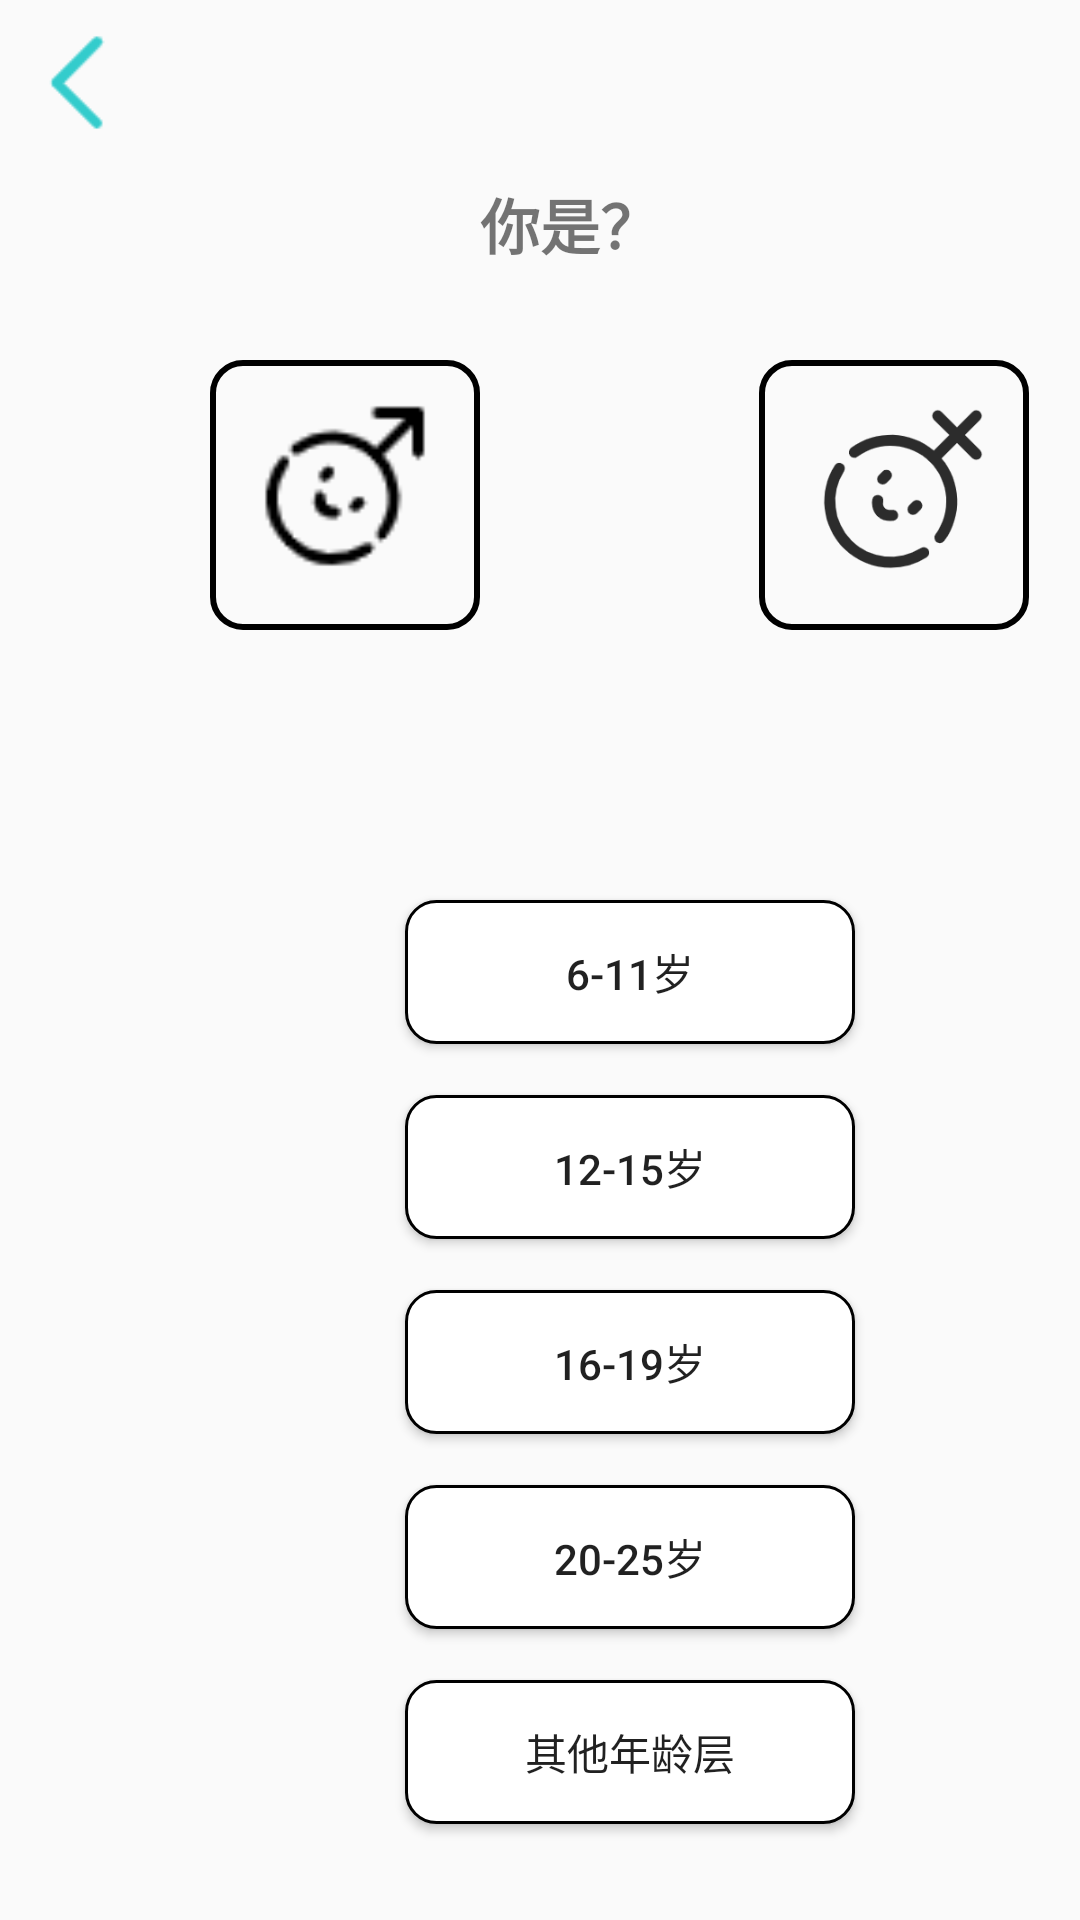

Icon bounding boxes for this 1080px×1920px phone screenshot, format (x1, y1, x2, y2):
back: (51, 36, 104, 129)
mchild: (265, 406, 425, 566)
wchild: (824, 410, 982, 568)
